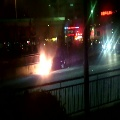fire: (32, 52, 52, 75)
